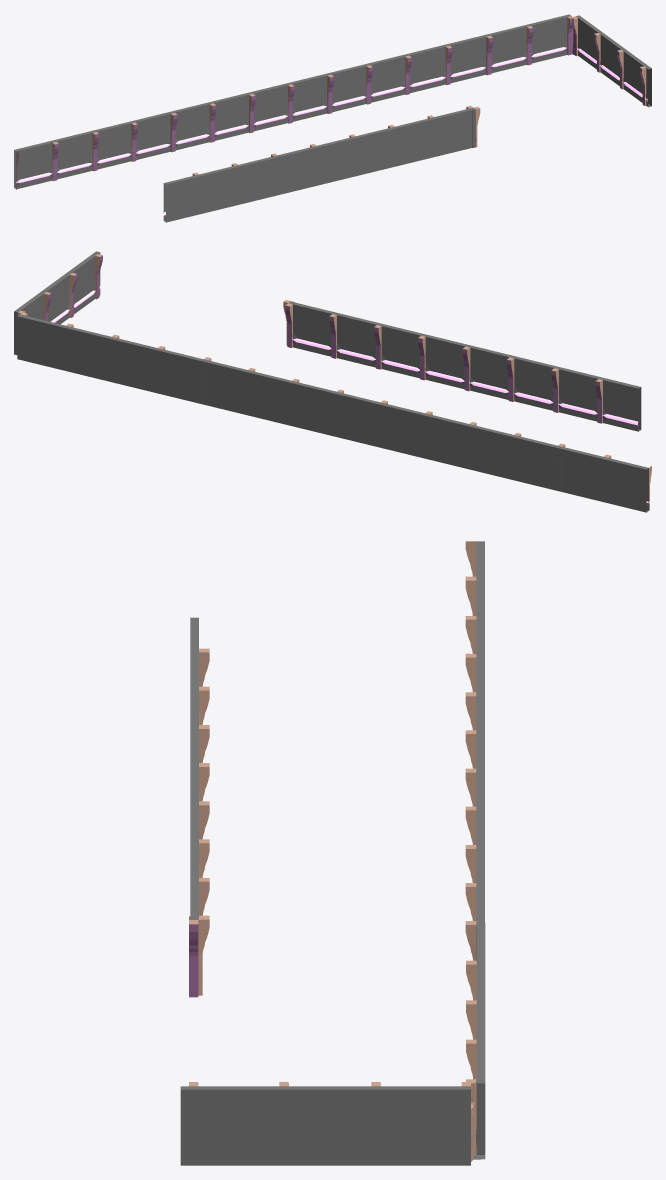
The model's file is wallhall.fbx.
3 views of the same model, one above another, from view 1: azimuth 30°, elevation 25°; view 2: azimuth 150°, elevation 25°; view 3: azimuth 270°, elevation 25° (orthographic). The views are drawn at different scales.
Visible parts, largest first — view 1: wallglass; view 2: wallglass; view 3: wallglass.
Boxes of the visible parts, x1,y1,x2,y2 form: wallglass: [14, 14, 651, 222]; wallglass: [14, 251, 651, 512]; wallglass: [180, 541, 485, 1165].
Bounding box in the file's own units: 28.47 × 1.84 × 6.68.
